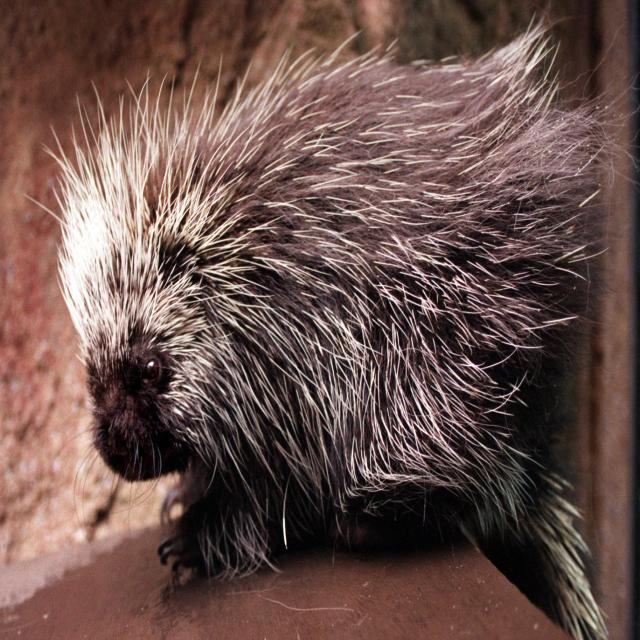Porcupine: (81, 61, 573, 571)
